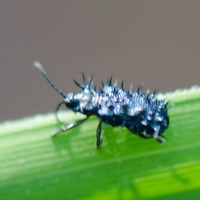insect: (33, 61, 168, 147)
